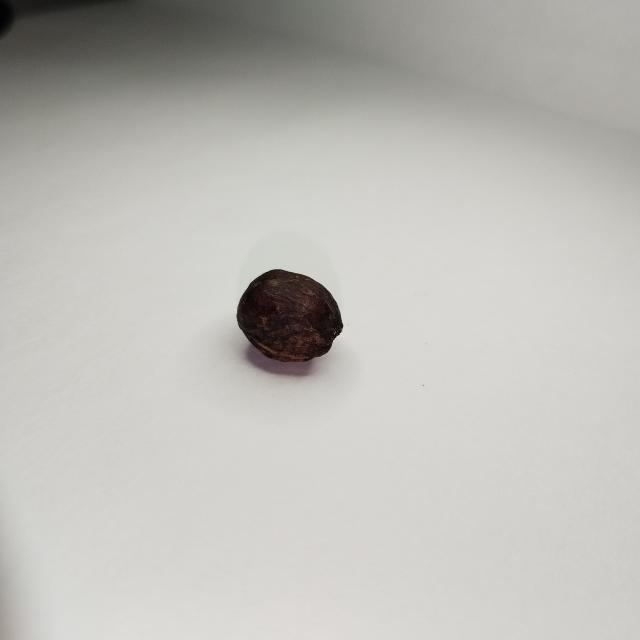Danado: (237, 270, 342, 362)
